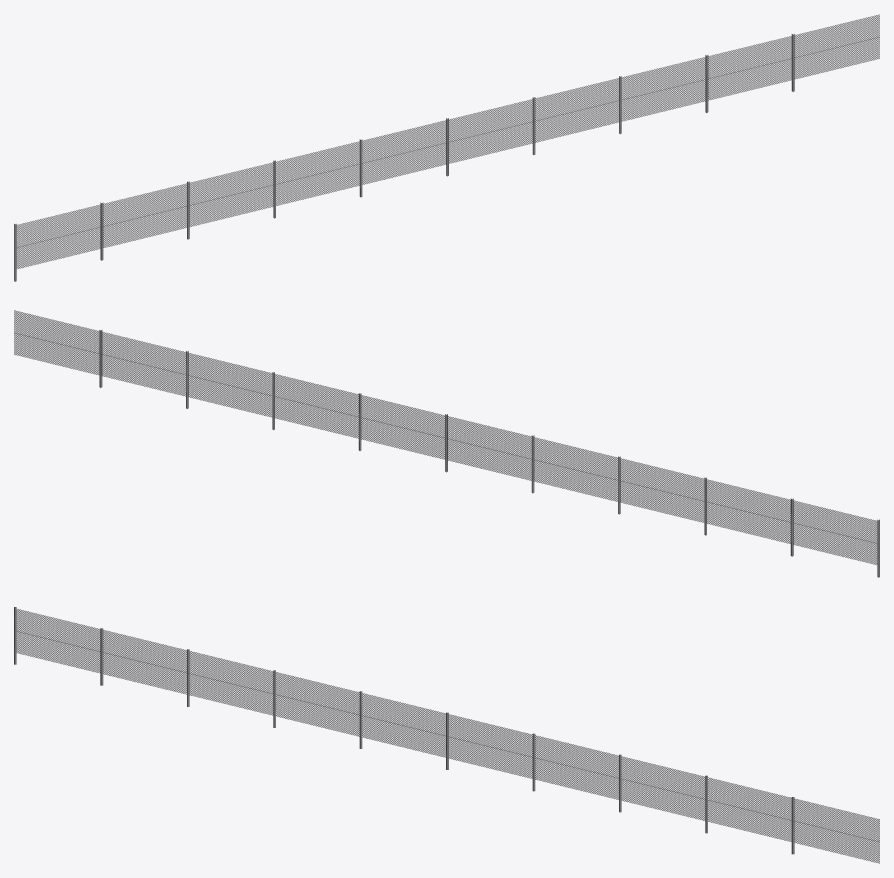
File: fence-tall-chainlink-10s-cbj_LOD02.gltf
3 renders of one model, top to bottom at view 1: azimuth 30°, elevation 25°; view 2: azimuth 150°, elevation 25°; view 3: azimuth 330°, elevation 25°, orthographic.
Parts seen in each view (by area): view 1: 02; view 2: 02; view 3: 02.
Boxes of the visible parts, x1,y1,x2,y2 form: 02: [14, 14, 879, 281]; 02: [14, 310, 879, 577]; 02: [14, 607, 879, 863].
Size of what is drawn, in the model's own units: 36.65 by 2.33 by 0.1016.
